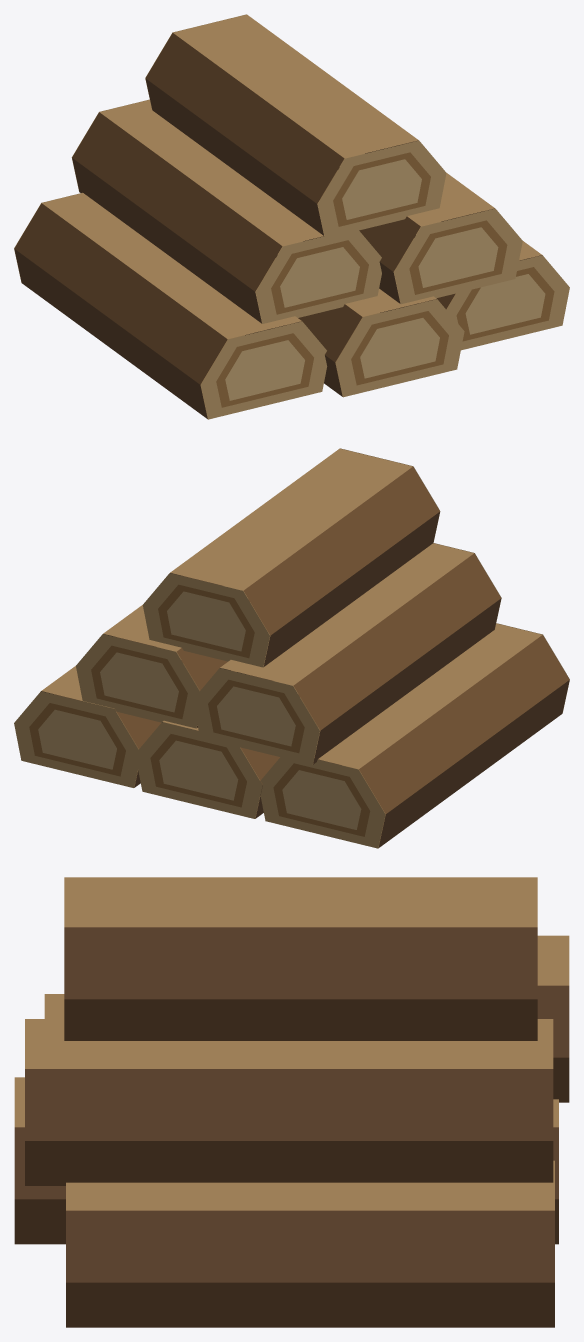
The model's file is StackedFirewood.glb.
3 views of the same model, one above another, from view 1: azimuth 30°, elevation 25°; view 2: azimuth 150°, elevation 25°; view 3: azimuth 270°, elevation 25° (orthographic). The views are drawn at different scales.
Parts seen in each view (by area): view 1: StackedFirewood_Timber; view 2: StackedFirewood_Timber; view 3: StackedFirewood_Timber.
Boxes of the visible parts, x1,y1,x2,y2 form: StackedFirewood_Timber: (14,14,569,419); StackedFirewood_Timber: (14,448,569,848); StackedFirewood_Timber: (14,877,569,1327).
Size of the model in its own units: 0.76 by 0.425 by 0.705.
